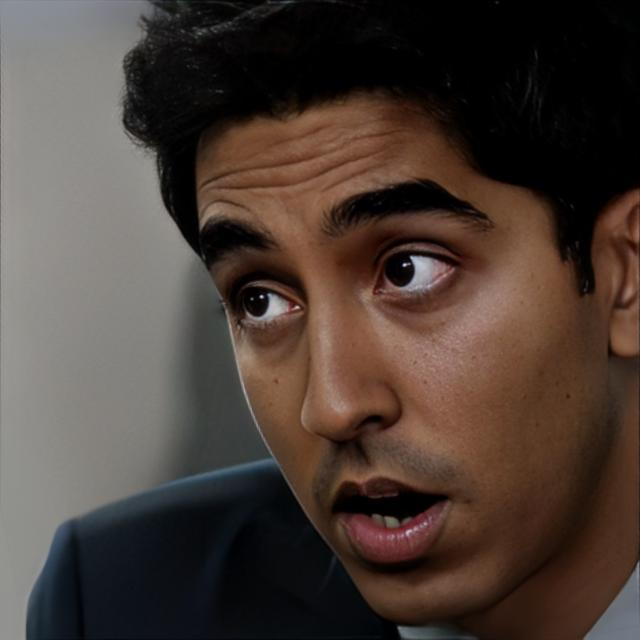surprise: (193, 88, 608, 627)
